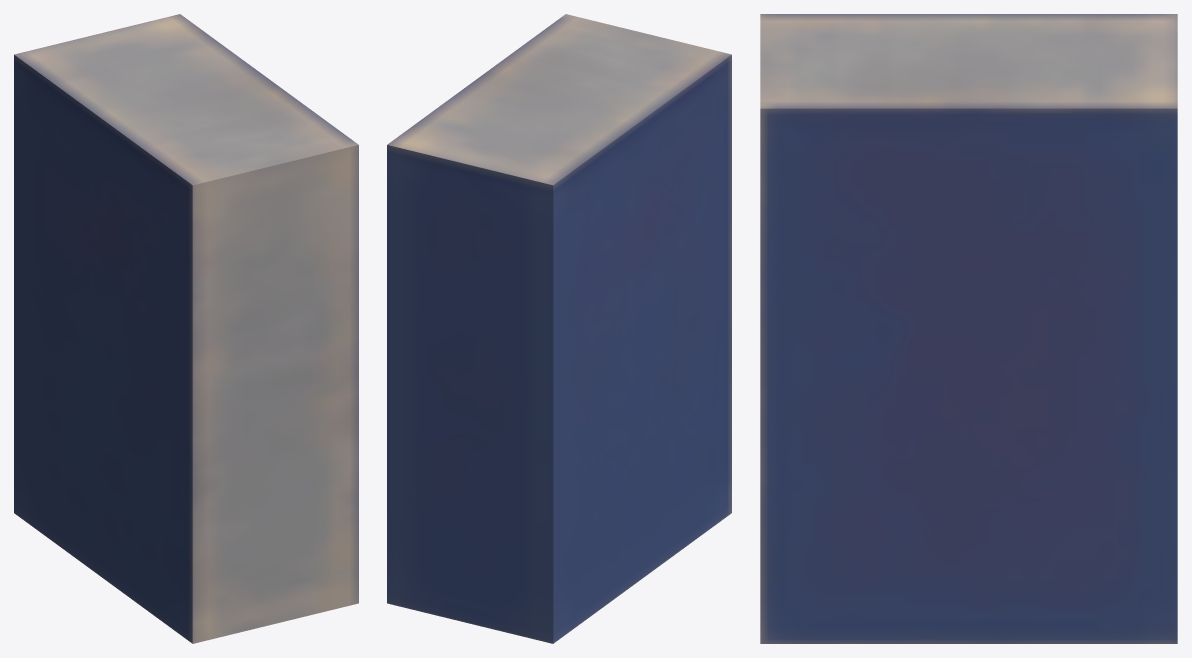
The model's file is Pfb_Indoors_Books__5.fbx.
3 views of the same model, side by side, from view 1: azimuth 30°, elevation 25°; view 2: azimuth 150°, elevation 25°; view 3: azimuth 270°, elevation 25° (orthographic). The views are drawn at different scales.
Visible parts, largest first — view 1: Mat_Indoors_Books_01; view 2: Mat_Indoors_Books_01; view 3: Mat_Indoors_Books_01.
Boxes of the visible parts, <box> form: Mat_Indoors_Books_01: <box>14,14,358,643</box>; Mat_Indoors_Books_01: <box>387,14,731,643</box>; Mat_Indoors_Books_01: <box>760,14,1177,643</box>.
Size of the model in its own units: 0.127 by 0.3351 by 0.2368.
Materials: 1 (1 with a texture image).
